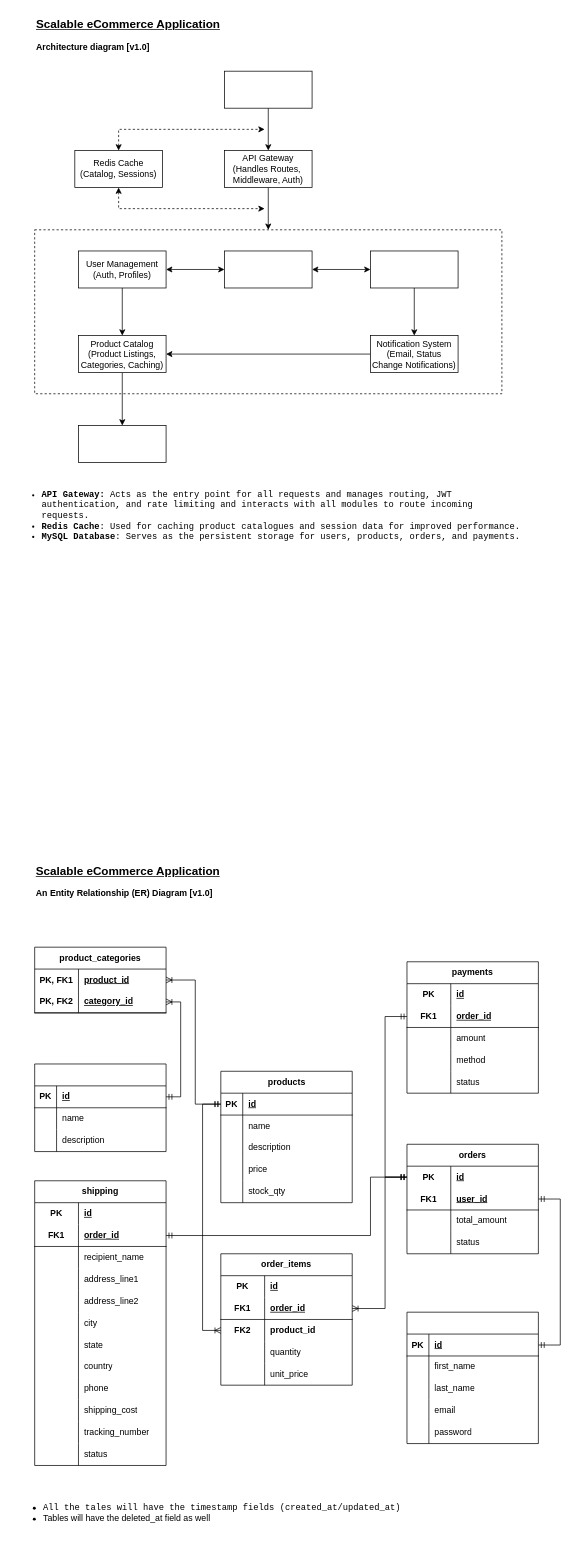
Image size: 580x1551. Some labels were removed from this diagram. The shapes that lost their labels are listed below. From the top down, each one's box as (x1, y1, x2, y2) in pixels, then its label:
(224, 70, 312, 108): Client Devices (Web, Mobile App)
(224, 250, 312, 288): Shopping Cart (Add/Remove Items, Update Quantities)
(370, 250, 458, 288): Order Management (Create, Update, Retrieve Orders)
(78, 425, 166, 463): MySQL Database (Users, Products, Orders, Payments)
(34, 1063, 166, 1152): categories
(406, 1311, 538, 1444): user
